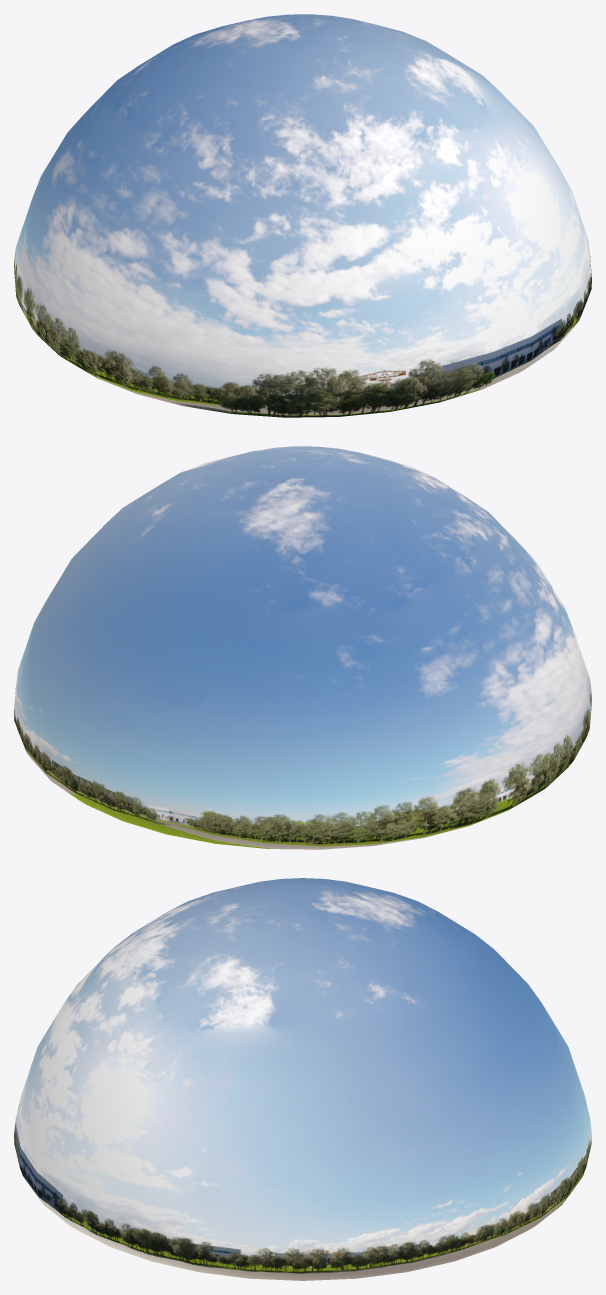
Rendered from baugutEnv.glb.
3 renders of one model, top to bottom at view 1: azimuth 30°, elevation 25°; view 2: azimuth 150°, elevation 25°; view 3: azimuth 270°, elevation 25°, orthographic.
Visible parts, largest first — view 1: groundSphereBakeHighRes; view 2: groundSphereBakeHighRes; view 3: groundSphereBakeHighRes.
Part boxes in pixels (left/top/right/bottom): groundSphereBakeHighRes: left=14, top=14, right=591, bottom=417; groundSphereBakeHighRes: left=14, top=446, right=591, bottom=849; groundSphereBakeHighRes: left=14, top=878, right=591, bottom=1280.
Size of the model in its own units: 74.56 by 37.78 by 74.56.
1 material, 1 textured.
